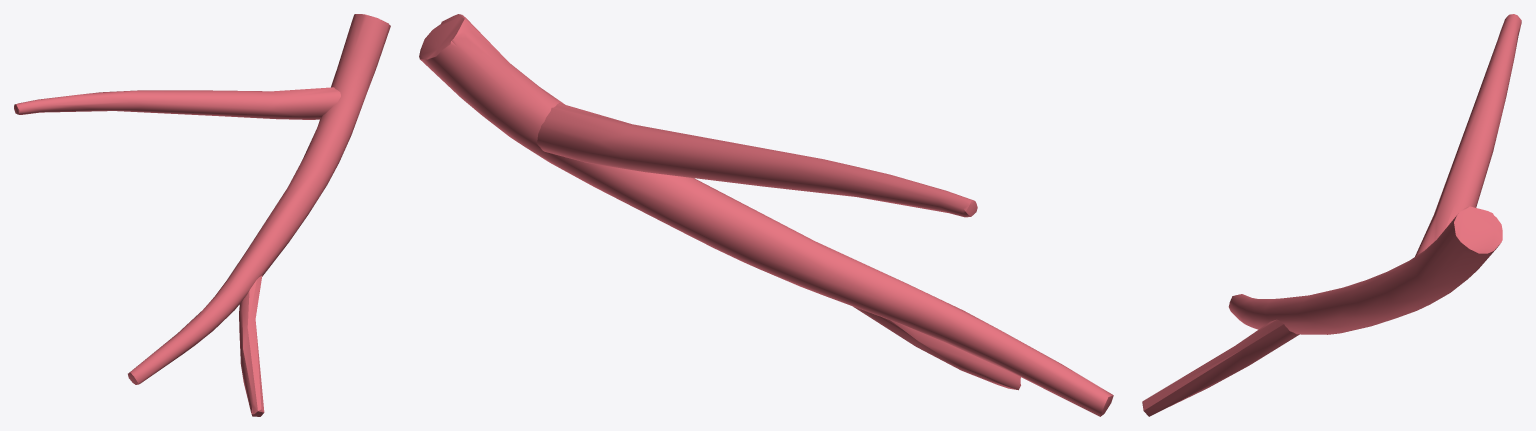
The model's file is fma68194_cx150.glb.
3 views of the same model, side by side, from view 1: azimuth 30°, elevation 25°; view 2: azimuth 150°, elevation 25°; view 3: azimuth 270°, elevation 25° (orthographic). The views are drawn at different scales.
Visible parts, largest first — view 1: FMA68194_CX150; view 2: FMA68194_CX150; view 3: FMA68194_CX150.
Boxes of the visible parts, box(x1,y1,x2,y2) form: FMA68194_CX150: box(14, 14, 390, 416); FMA68194_CX150: box(419, 14, 1113, 416); FMA68194_CX150: box(1142, 14, 1521, 416).
Size of the model in its own units: 0.0637 by 0.0446 by 0.0429.
